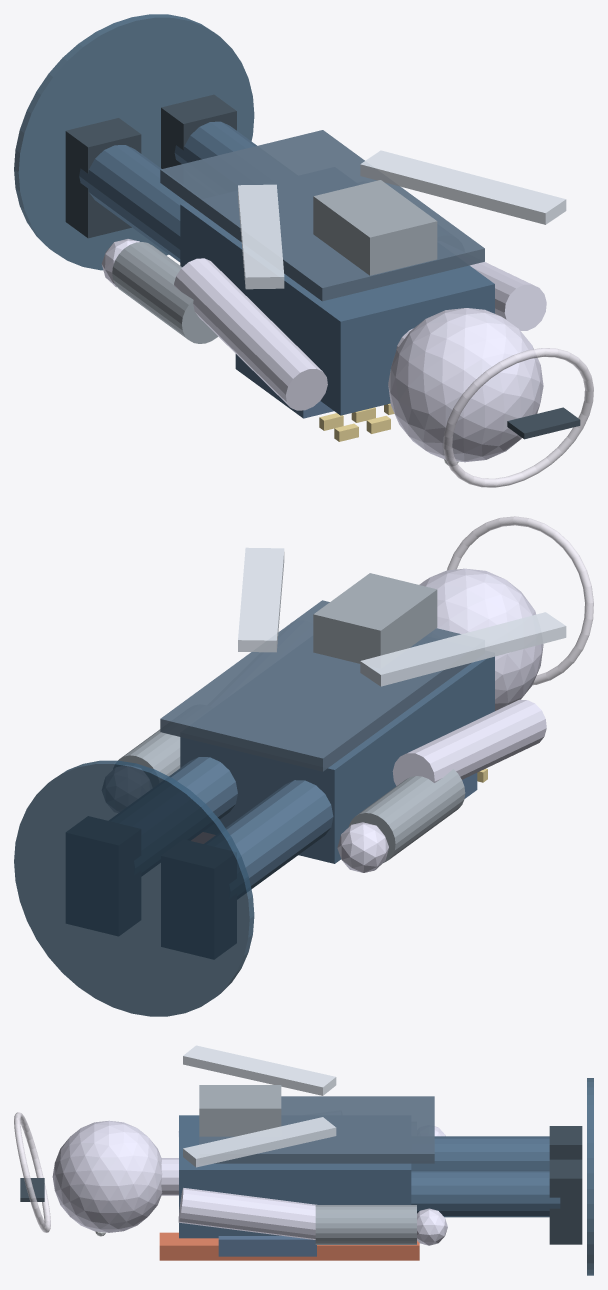
The model's file is SW_NPC_042_sera_cloudmere.glb.
The picture shows the model from 3 angles, top to bottom: view 1: azimuth 30°, elevation 25°; view 2: azimuth 150°, elevation 25°; view 3: azimuth 270°, elevation 25°; orthographic projection. The views are drawn at different scales.
Visible parts, largest first — view 1: round_base_plate, torso_uniform, storm_cloak, head, left_upper_arm, wingpack_core, left_leg, right_wing_rig, left_forearm_gauntlet, left_boot, left_wing_rig, lunar_crescent_ring (+5 smaller); view 2: round_base_plate, storm_cloak, torso_uniform, wingpack_core, head, left_upper_arm, left_leg, left_wing_rig, left_forearm_gauntlet, right_wing_rig, lunar_crescent_ring, right_leg (+2 smaller); view 3: torso_uniform, storm_cloak, head, right_leg, right_upper_arm, left_leg, right_forearm_gauntlet, wingpack_core, rank_sash, right_wing_rig, left_wing_rig, right_boot (+7 smaller).
Part boxes in pixels (left/top/right/bottom): round_base_plate: left=14, top=14, right=254, bottom=270; torso_uniform: left=180, top=203, right=494, bottom=415; storm_cloak: left=160, top=130, right=484, bottom=301; head: left=388, top=308, right=543, bottom=462; left_upper_arm: left=174, top=258, right=327, bottom=410; wingpack_core: left=313, top=180, right=437, bottom=275; left_leg: left=79, top=145, right=186, bottom=262; right_wing_rig: left=360, top=150, right=566, bottom=224; left_forearm_gauntlet: left=112, top=242, right=217, bottom=343; left_boot: left=65, top=118, right=141, bottom=238; left_wing_rig: left=238, top=184, right=284, bottom=289; lunar_crescent_ring: left=443, top=348, right=593, bottom=487; round_base_plate: left=14, top=760, right=254, bottom=1016; storm_cloak: left=160, top=600, right=471, bottom=771; torso_uniform: left=180, top=656, right=494, bottom=863; wingpack_core: left=313, top=573, right=437, bottom=663; head: left=419, top=568, right=543, bottom=710; left_upper_arm: left=392, top=699, right=546, bottom=785; left_leg: left=225, top=780, right=333, bottom=889; left_wing_rig: left=360, top=612, right=566, bottom=686; left_forearm_gauntlet: left=348, top=769, right=465, bottom=862; right_wing_rig: left=238, top=547, right=284, bottom=652; lunar_crescent_ring: left=447, top=516, right=593, bottom=685; right_leg: left=169, top=757, right=237, bottom=819; torso_uniform: left=179, top=1115, right=411, bottom=1238; storm_cloak: left=199, top=1096, right=434, bottom=1163; head: left=52, top=1120, right=162, bottom=1232; right_leg: left=411, top=1170, right=560, bottom=1217; right_upper_arm: left=178, top=1188, right=316, bottom=1239; left_leg: left=411, top=1136, right=549, bottom=1170; right_forearm_gauntlet: left=315, top=1205, right=416, bottom=1244; wingpack_core: left=199, top=1085, right=281, bottom=1136; rank_sash: left=159, top=1232, right=419, bottom=1260; right_wing_rig: left=183, top=1117, right=336, bottom=1167; left_wing_rig: left=183, top=1045, right=336, bottom=1095; right_boot: left=549, top=1159, right=582, bottom=1244.
Bounding box in the file's own units: 1.05 × 0.7728 × 2.27.
